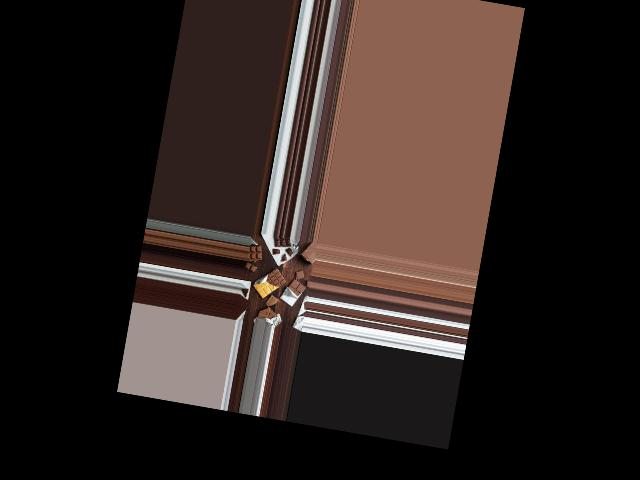chocolate: (278, 277, 309, 307)
